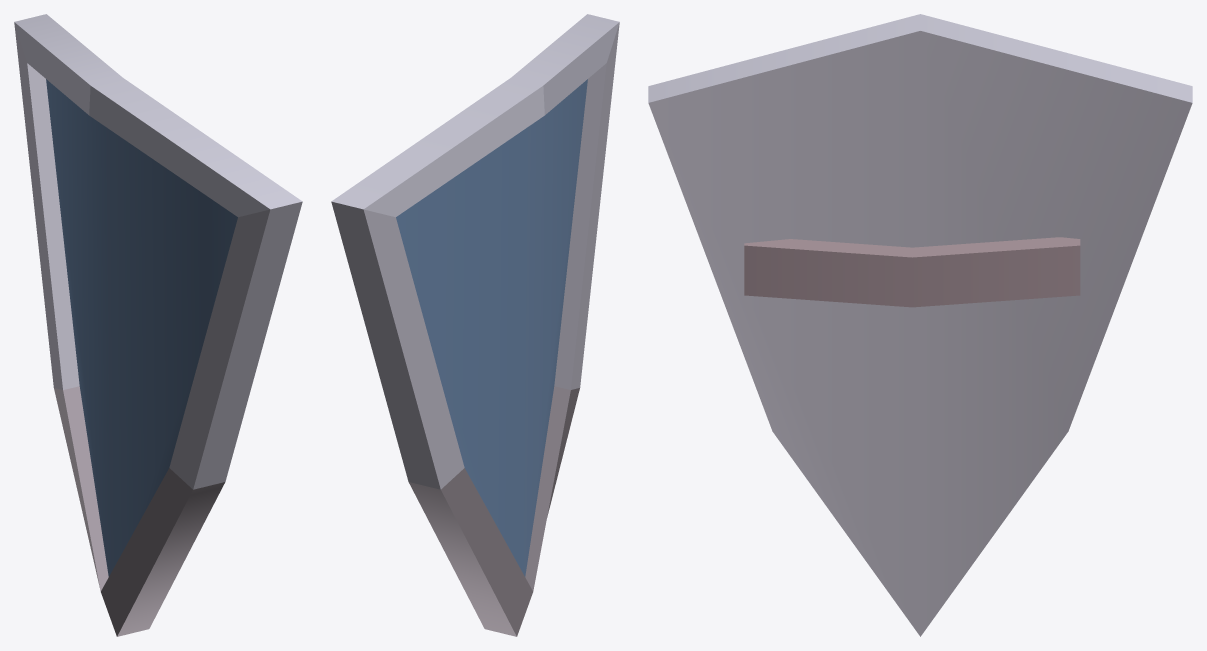
File: shield.glb
The picture shows the model from 3 angles, left to right: view 1: azimuth 30°, elevation 25°; view 2: azimuth 150°, elevation 25°; view 3: azimuth 270°, elevation 25°; orthographic projection. The views are drawn at different scales.
Visible parts, largest first — view 1: Shield.001; view 2: Shield.001; view 3: Shield.001.
Part boxes in pixels (x1,y1,x2,y2): Shield.001: (14, 14, 302, 636); Shield.001: (331, 14, 619, 636); Shield.001: (648, 14, 1192, 636).
Bounding box in the file's own units: 0.1522 × 0.797 × 0.6635.
